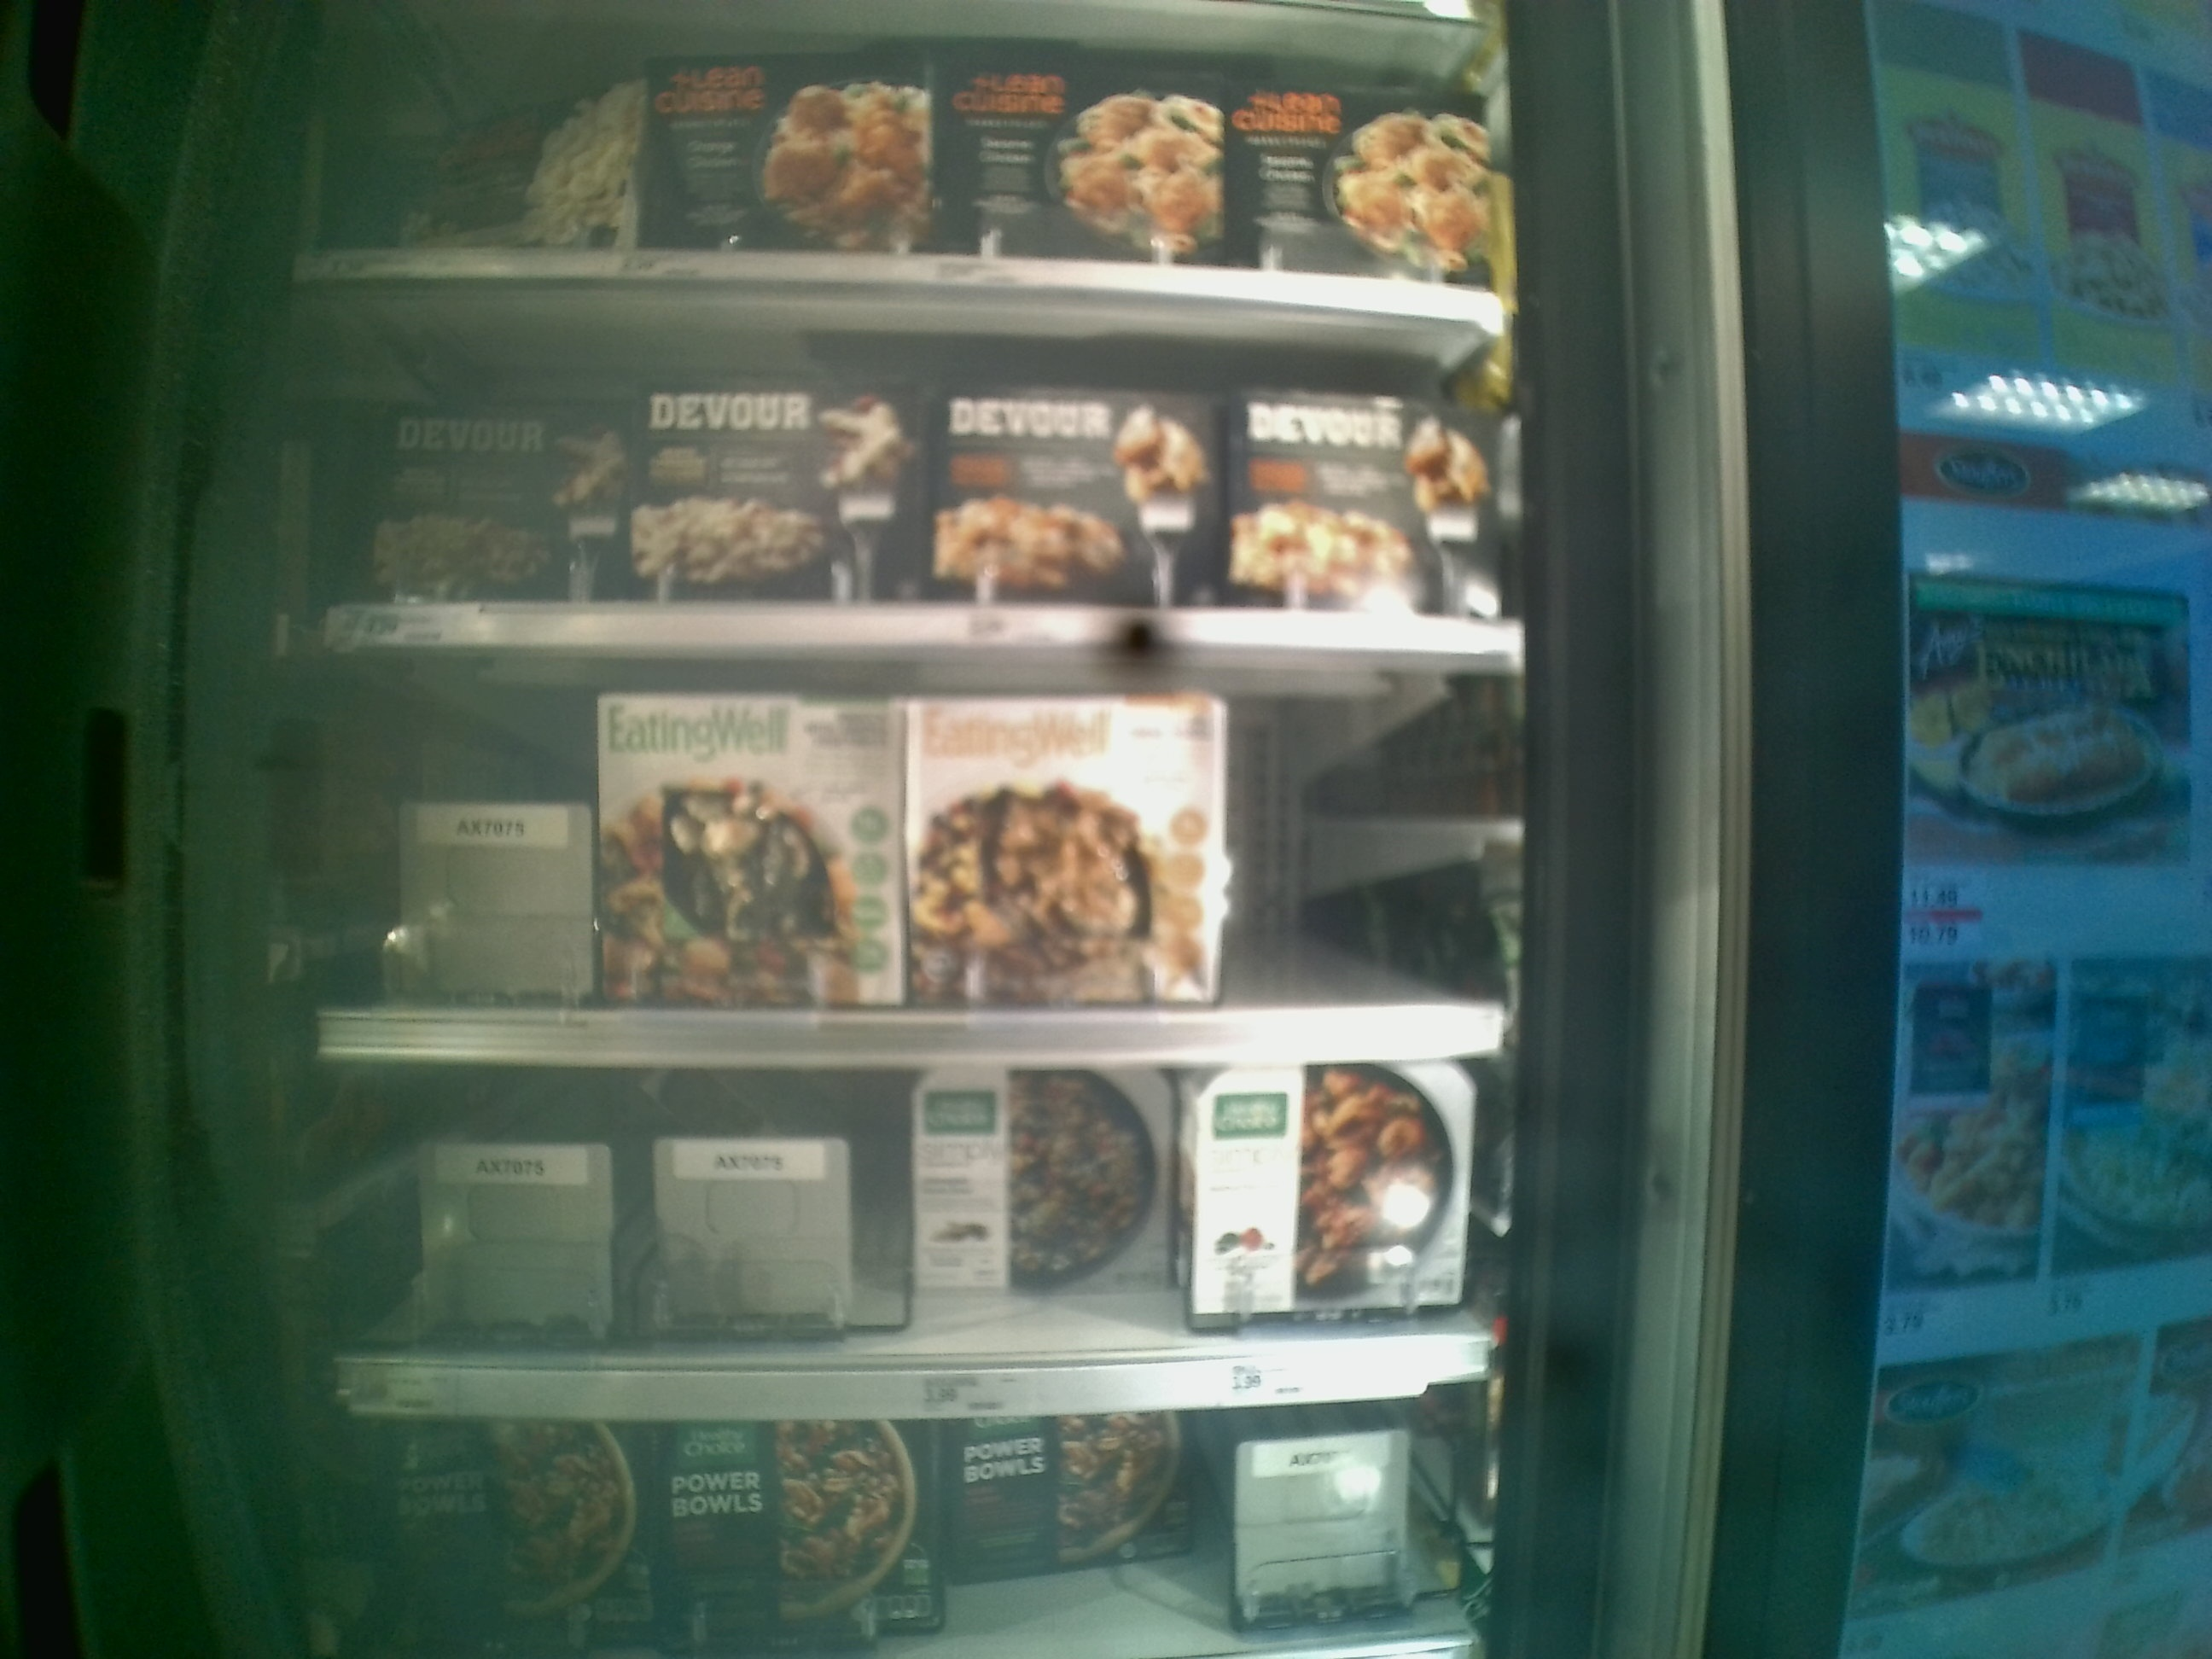shelf: (307, 647, 1505, 1063), (301, 1049, 1559, 1439), (289, 267, 1521, 657)
